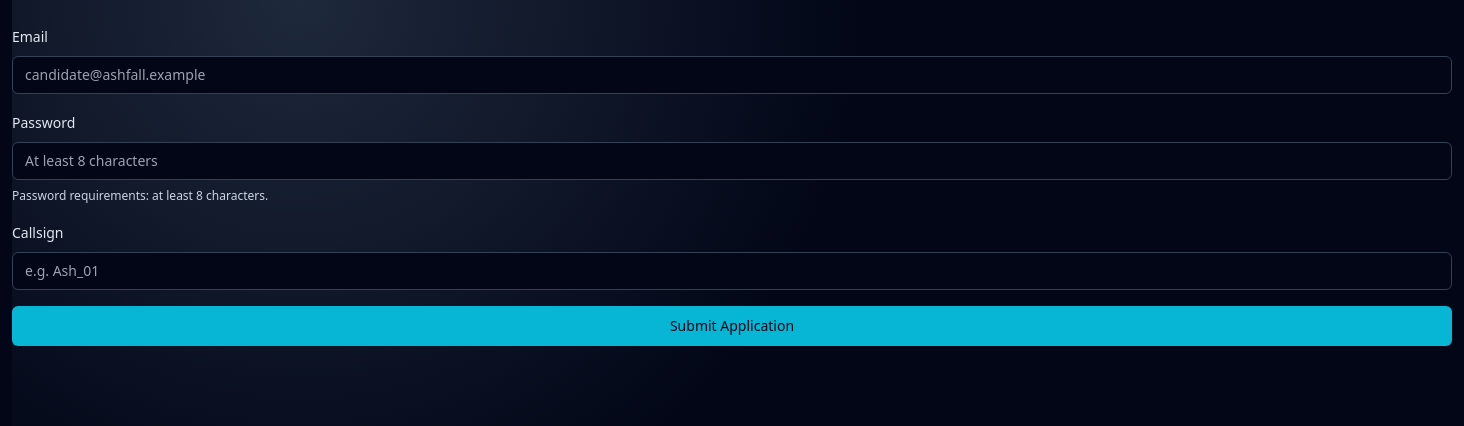
Test case: ApplyForm › shows field-level validation errors for invalid callsign
This screenshot has width=1464, height=426.
Type "candidate@example.com" into the field labelled "Email" at (732,75), box [12,56,1452,94]
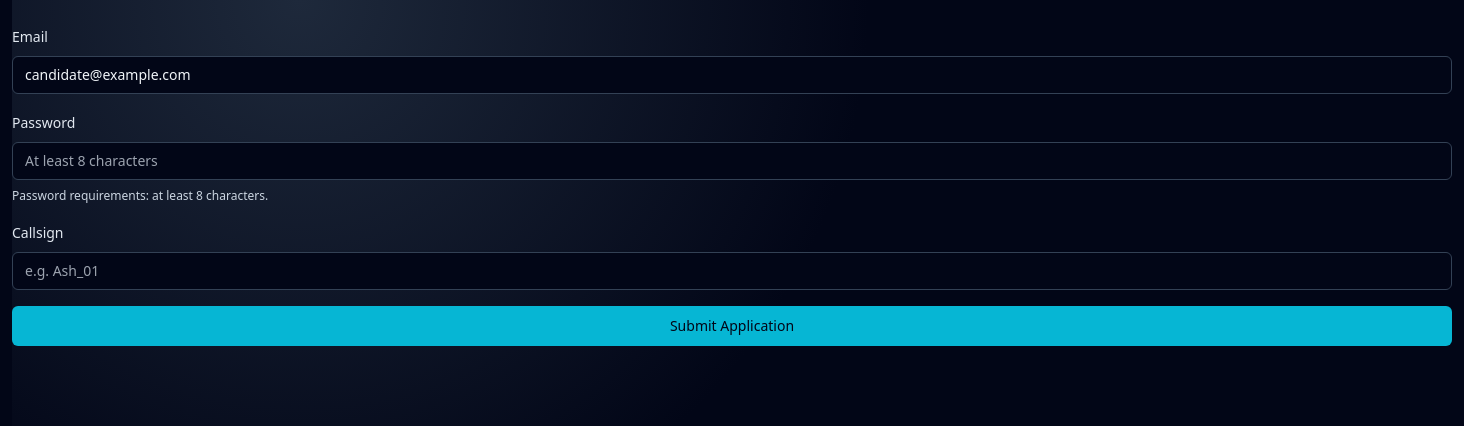
Type "securepass123" into the password field labelled "Password" at (732,161), box [12,142,1452,180]
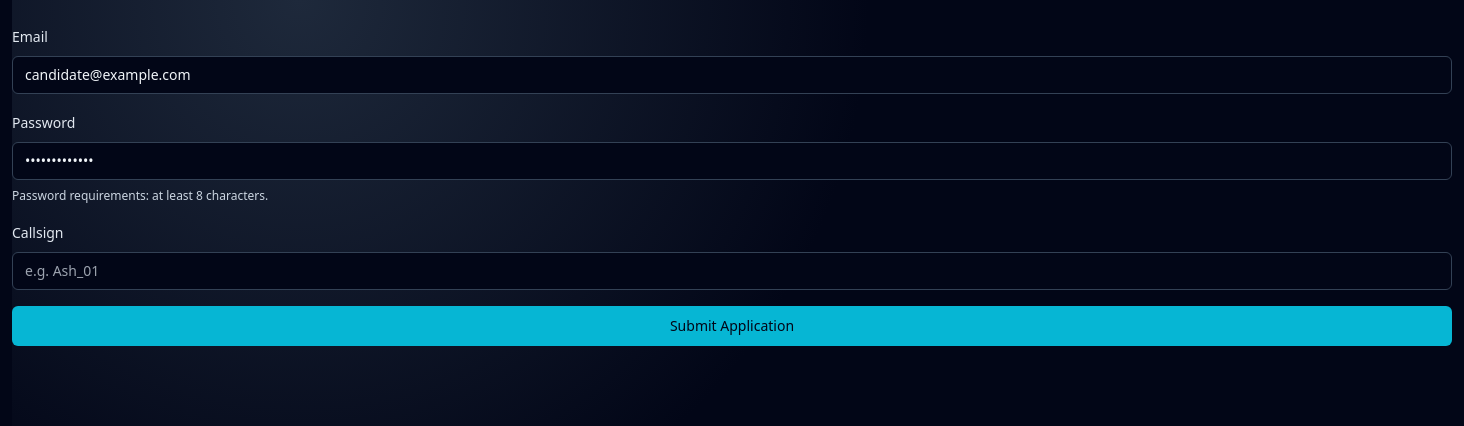
Type "bad callsign" into the field labelled "Callsign" at (732,271), box [12,252,1452,290]
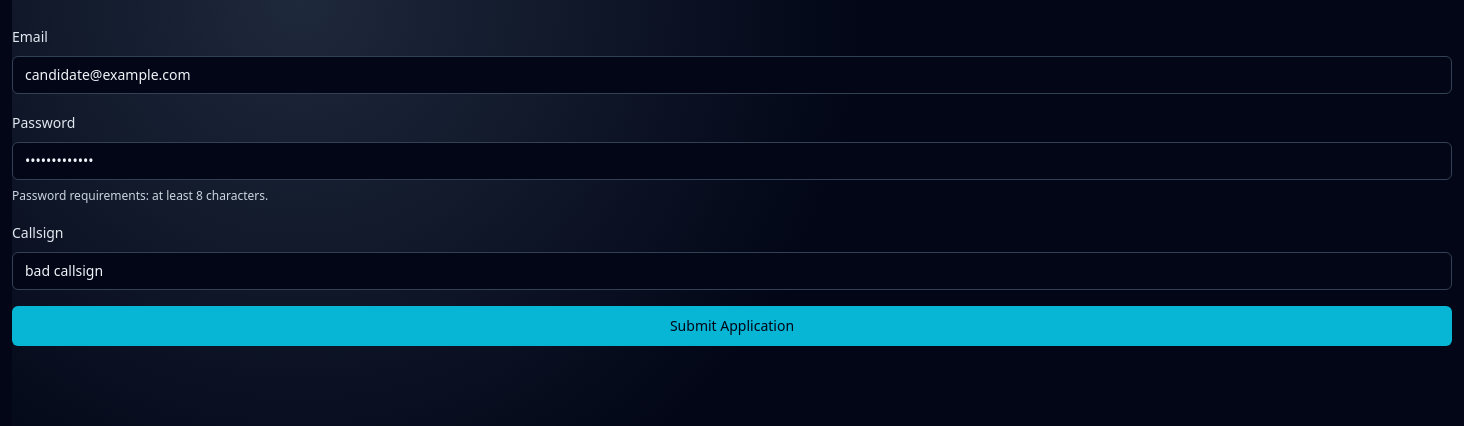
Click the button with test id "apply-submit" at (732,326), box [12,306,1452,346]
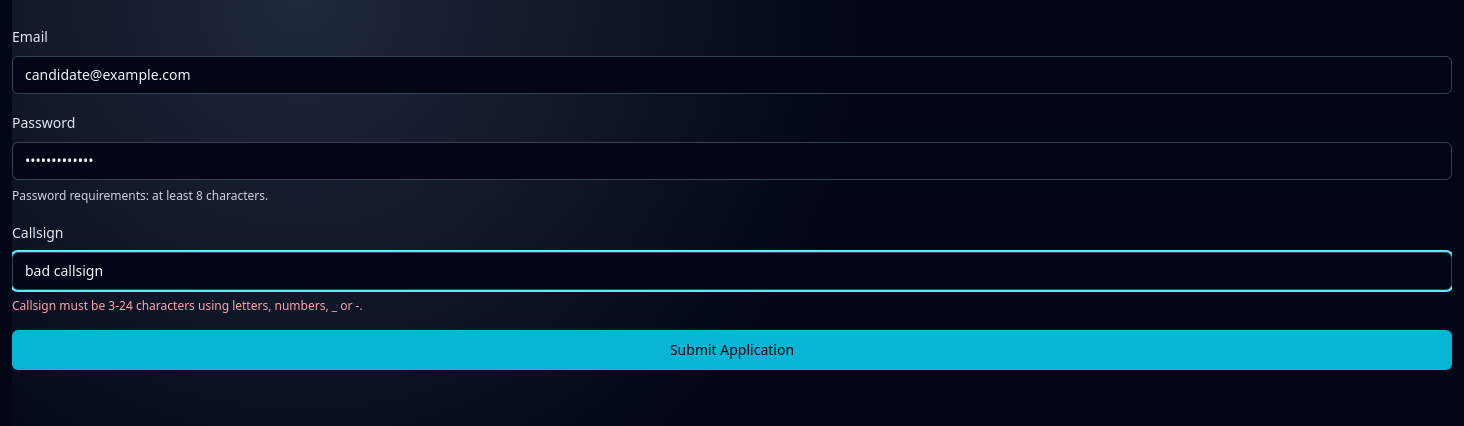
Expected: the message "Callsign must be 3-24 characters using letters, numbers, _ or -." is shown, [12,297,363,314]
